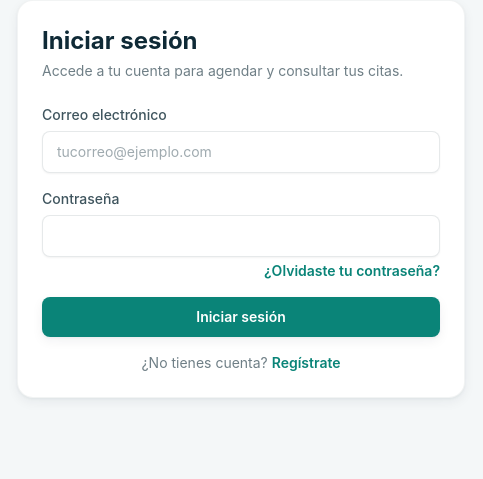
Test case: <Login /> › B-10: manejo de TimeoutError en signIn › muestra mensaje genérico si signIn lanza un error inesperado (no timeout)
In the field labelled "Correo electrónico": (241, 152) [42,131,440,173], type "paciente@test.com"
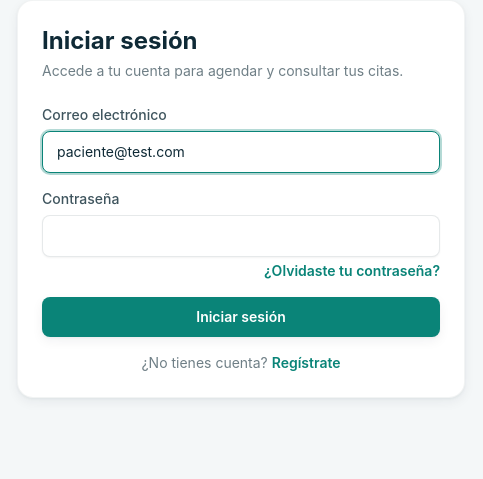
In the password field labelled "Contraseña": (241, 236) [42,215,440,257], type "segura123"
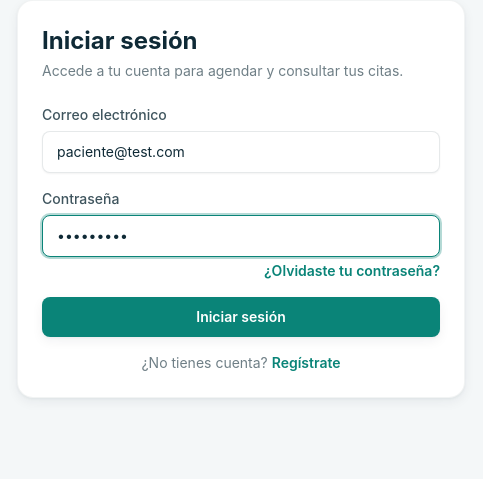
Click the button "Iniciar sesión": (241, 317) [42,297,440,337]
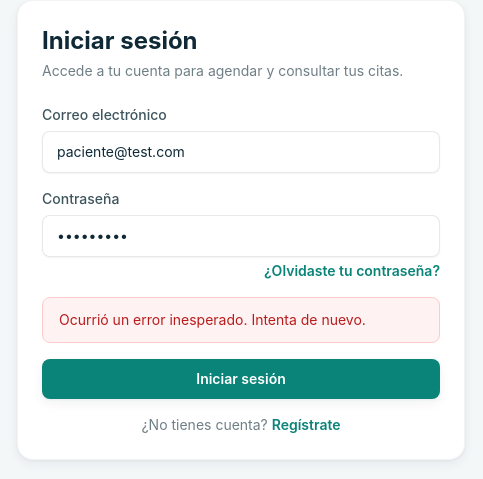
Result: the message shows "Ocurrió un error inesperado" at [59,311,366,328]
